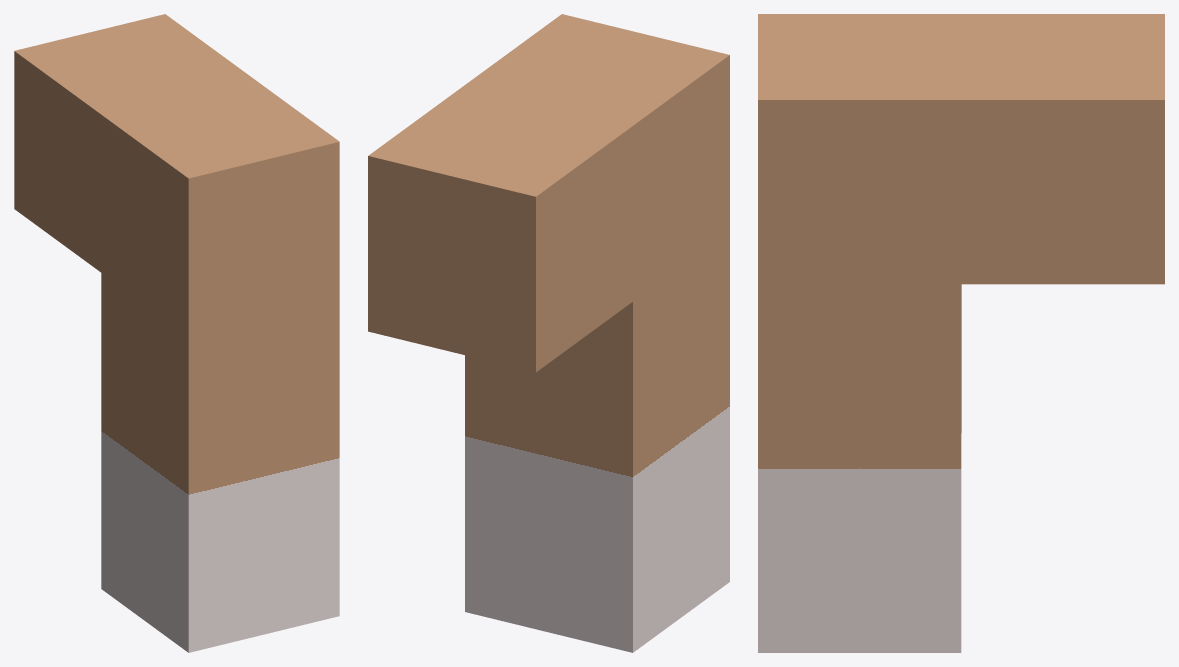
The model's file is ginger_legend-5.fbx.
3 renders of one model, left to right at view 1: azimuth 30°, elevation 25°; view 2: azimuth 150°, elevation 25°; view 3: azimuth 270°, elevation 25°, orthographic. The views are drawn at different scales.
Parts seen in each view (by area): view 1: ginger_legend-5.001; view 2: ginger_legend-5.001; view 3: ginger_legend-5.001.
Boxes of the visible parts, x1,y1,x2,y2 form: ginger_legend-5.001: [14, 14, 339, 652]; ginger_legend-5.001: [368, 14, 729, 652]; ginger_legend-5.001: [758, 14, 1164, 652].
Size of the model in its own units: 0.1 by 0.3 by 0.2.
1 material, 1 textured.
